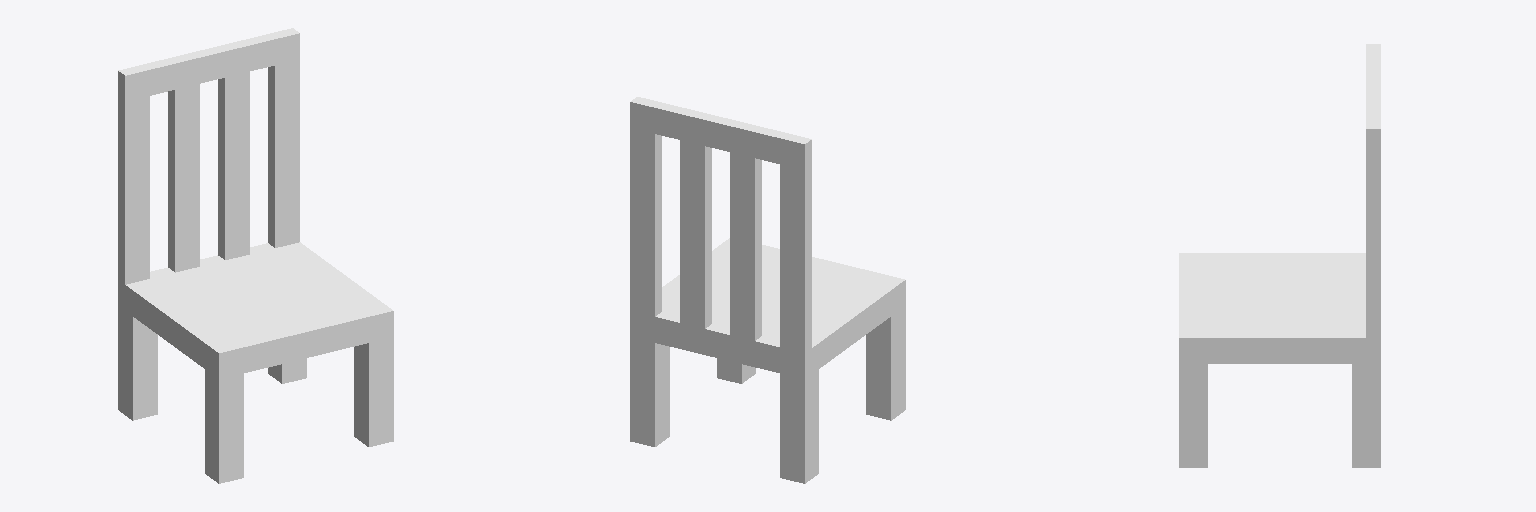
Rendered from Chair_Alternative.obj.
3 renders of one model, left to right at view 1: azimuth 30°, elevation 25°; view 2: azimuth 150°, elevation 25°; view 3: azimuth 270°, elevation 25°, orthographic.
Parts seen in each view (by area): view 1: object 1; view 2: object 1; view 3: object 1.
Boxes of the visible parts, x1=… form: object 1: x1=118, y1=28, x2=393, y2=483; object 1: x1=630, y1=97, x2=905, y2=483; object 1: x1=1179, y1=44, x2=1380, y2=467.
Bounding box in the file's own units: 1.4 × 2.6 × 1.4.